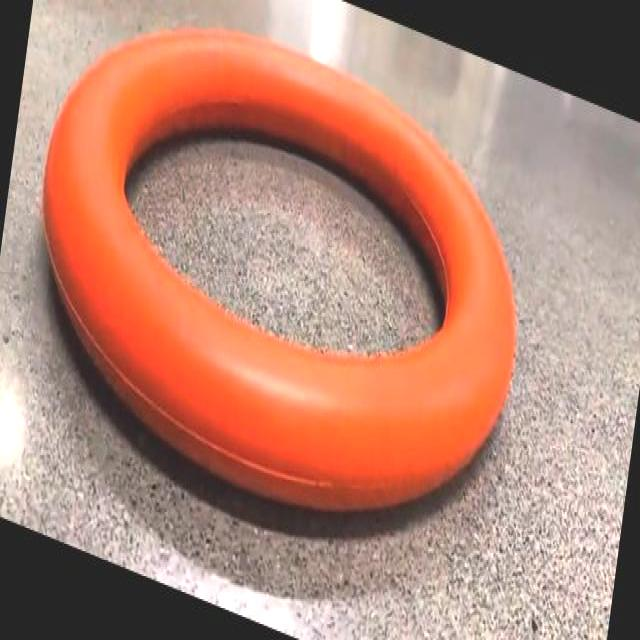note: (43, 30, 515, 511)
